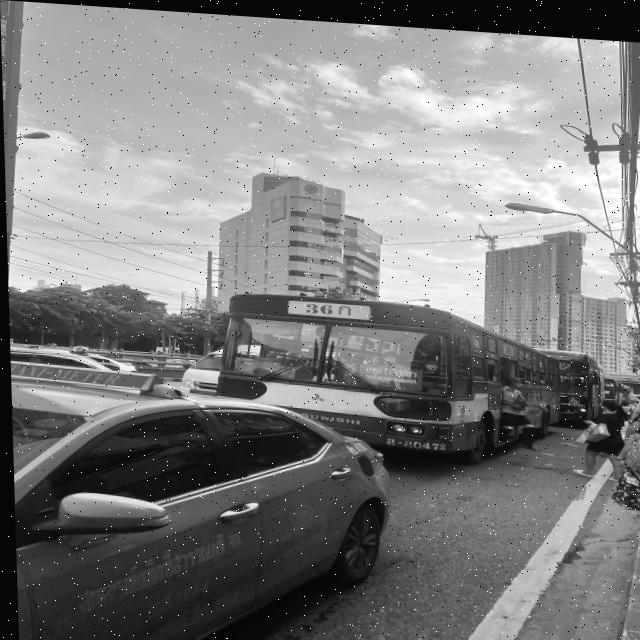BMTA-bus: (220, 286, 559, 461)
Bus-Line-Number: (298, 295, 354, 315), (553, 352, 572, 364)
Destination-Sign-Normal: (356, 360, 422, 387)
TSB-Bus: (538, 340, 602, 415)
